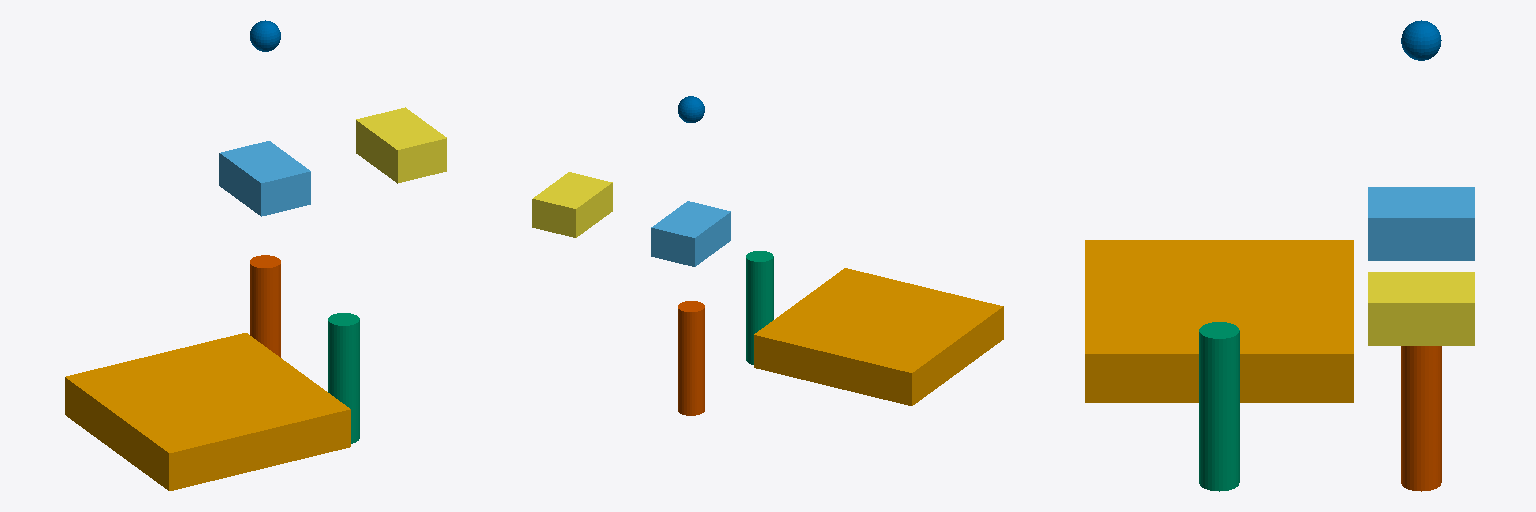
URDF robot description (articulated_robotic_manipulator):
<?xml version="1.0" ?>
<robot name="articulated_robotic_manipulator">
  <link name="base">
    <visual>
      <geometry>
        <box size="0.08 0.08 0.016"/>
      </geometry>
    </visual>
  </link>
  <link name="end_effector">
    <visual>
      <geometry>
        <box size="0.022 0.032 0.014"/>
      </geometry>
    </visual>
  </link>
  <link name="first_link">
    <visual>
      <geometry>
        <cylinder radius="0.006" length="0.05"/>
      </geometry>
    </visual>
  </link>
  <link name="gripper">
    <visual>
      <geometry>
        <box size="0.022 0.032 0.014"/>
      </geometry>
    </visual>
  </link>
  <link name="position_sensor">
    <visual>
      <geometry>
        <sphere radius="0.006"/>
      </geometry>
    </visual>
  </link>
  <link name="second_link">
    <visual>
      <geometry>
        <cylinder radius="0.006" length="0.05"/>
      </geometry>
    </visual>
  </link>
  <joint name="first_joint" type="revolute">
    <parent link="base"/>
    <child link="first_link"/>
    <origin xyz="0.0600 0.0000 0.0000" rpy="0 0 0"/>
    <axis xyz="0.0 0.0 1.0"/>
    <limit lower="-3.14" upper="3.14" velocity="1.0" effort="100"/>
  </joint>
  <joint name="_attach_base_to_gripper" type="fixed">
    <parent link="base"/>
    <child link="gripper"/>
    <origin xyz="0.1200 0.0600 0.0600" rpy="0 0 0"/>
  </joint>
  <joint name="second_joint" type="revolute">
    <parent link="first_link"/>
    <child link="second_link"/>
    <origin xyz="0.0000 0.0600 0.0000" rpy="0 0 0"/>
    <axis xyz="0.0 0.0 1.0"/>
    <limit lower="-3.14" upper="3.14" velocity="1.0" effort="100"/>
  </joint>
  <joint name="_attach_second_link_to_end_effector" type="fixed">
    <parent link="second_link"/>
    <child link="end_effector"/>
    <origin xyz="0.0000 0.0000 0.0600" rpy="0 0 0"/>
  </joint>
  <joint name="_attach_second_link_to_position_sensor" type="fixed">
    <parent link="second_link"/>
    <child link="position_sensor"/>
    <origin xyz="0.0000 0.0000 0.1200" rpy="0 0 0"/>
  </joint>
</robot>

--- Facts derived from the render (not from the file) ---
The picture shows the robot from 3 angles, left to right: view 1: azimuth 30°, elevation 25°; view 2: azimuth 150°, elevation 25°; view 3: azimuth 270°, elevation 25°; orthographic projection.
Robot: articulated_robotic_manipulator — 6 links, 5 joints (2 revolute, 3 fixed); root link base; default pose: every joint at zero.
Visible links, largest first — view 1: base, end_effector, gripper, first_link, second_link, position_sensor; view 2: base, gripper, end_effector, second_link, first_link, position_sensor; view 3: base, end_effector, gripper, first_link, second_link, position_sensor.
Boxes of the visible links, <box> form: base: <box>65,333,350,490</box>; end_effector: <box>219,141,310,216</box>; gripper: <box>356,107,446,183</box>; first_link: <box>328,313,359,443</box>; second_link: <box>250,255,280,357</box>; position_sensor: <box>250,20,280,51</box>; base: <box>754,268,1003,405</box>; gripper: <box>532,172,612,237</box>; end_effector: <box>651,201,730,266</box>; second_link: <box>678,301,704,415</box>; first_link: <box>746,251,773,364</box>; position_sensor: <box>678,96,704,122</box>; base: <box>1085,240,1353,402</box>; end_effector: <box>1368,187,1474,260</box>; gripper: <box>1368,272,1474,345</box>; first_link: <box>1199,322,1239,491</box>; second_link: <box>1401,346,1441,491</box>; position_sensor: <box>1401,20,1441,60</box>.
Bounding box of the posed robot: 0.171 × 0.116 × 0.151 m (x, y, z).
Geometry: primitives only (box / cylinder / sphere), no mesh files.
